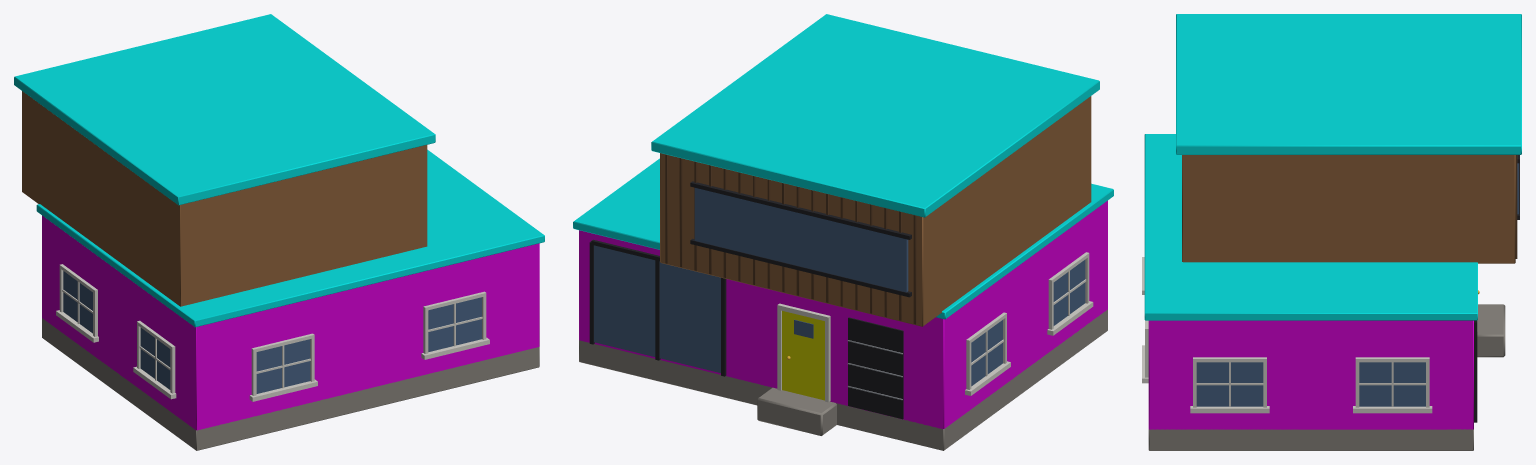
Rendered from House_Modern.fbx.
3 views of the same model, side by side, from view 1: azimuth 30°, elevation 25°; view 2: azimuth 150°, elevation 25°; view 3: azimuth 270°, elevation 25° (orthographic). The views are drawn at different scales.
Visible parts, largest first — view 1: House_Modern; view 2: House_Modern; view 3: House_Modern.
Boxes of the visible parts, x1,y1,x2,y2 form: House_Modern: (14,14,544,450); House_Modern: (573,14,1113,450); House_Modern: (1142,14,1521,450).
Bounding box in the file's own units: 10.32 × 6.85 × 9.11.
